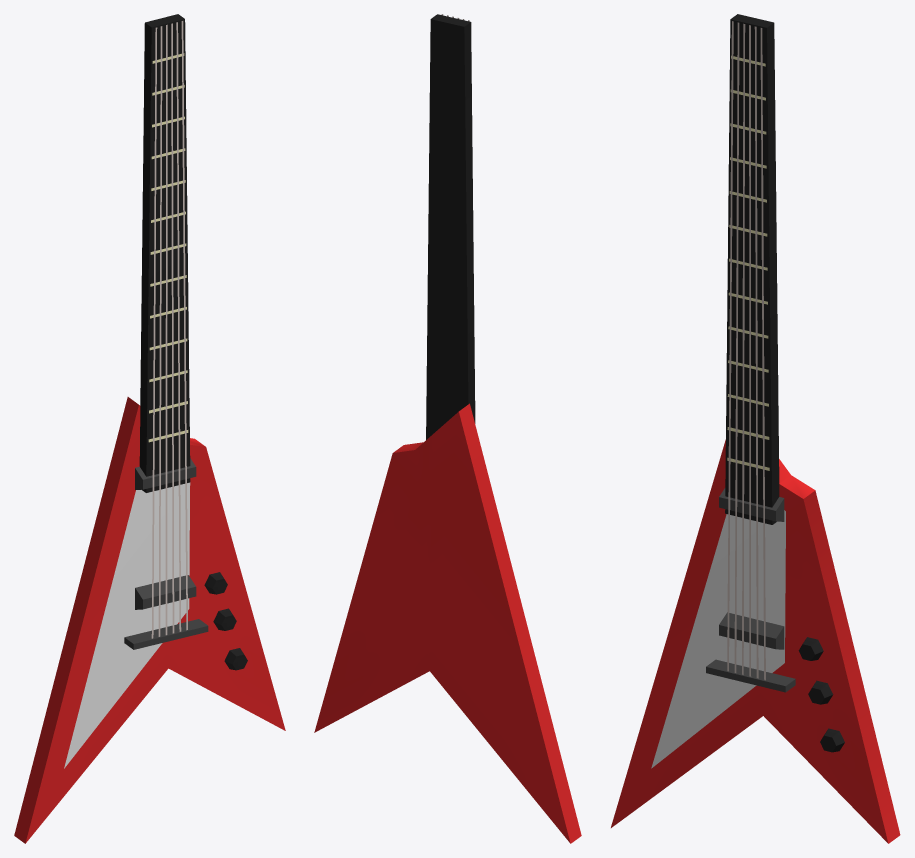
Rendered from musical_instrument_015.glb.
The picture shows the model from 3 angles, left to right: view 1: azimuth 30°, elevation 25°; view 2: azimuth 150°, elevation 25°; view 3: azimuth 330°, elevation 25°; orthographic projection. The views are drawn at different scales.
Parts seen in each view (by area): view 1: musical_instrument_015; view 2: musical_instrument_015; view 3: musical_instrument_015.
Part boxes in pixels (left/top/right/bottom): musical_instrument_015: left=14, top=14, right=285, bottom=843; musical_instrument_015: left=314, top=14, right=581, bottom=843; musical_instrument_015: left=611, top=14, right=900, bottom=843.
Bounding box in the file's own units: 0.3742 × 1.09 × 0.0515.
1 material, 1 textured.
